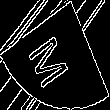M_NE: (30, 22, 80, 88)
